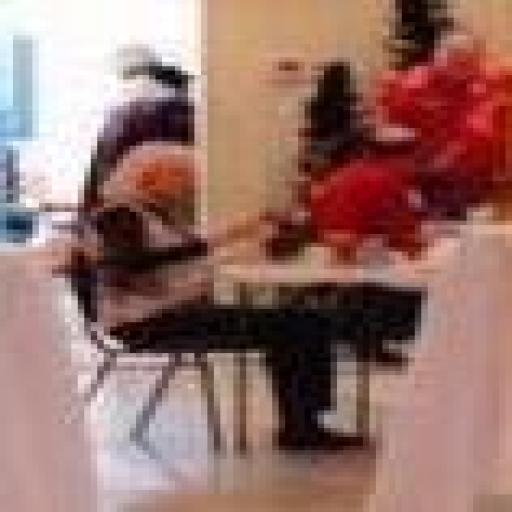person: (85, 142, 356, 450), (376, 31, 505, 220), (85, 45, 194, 207), (312, 128, 427, 264)
